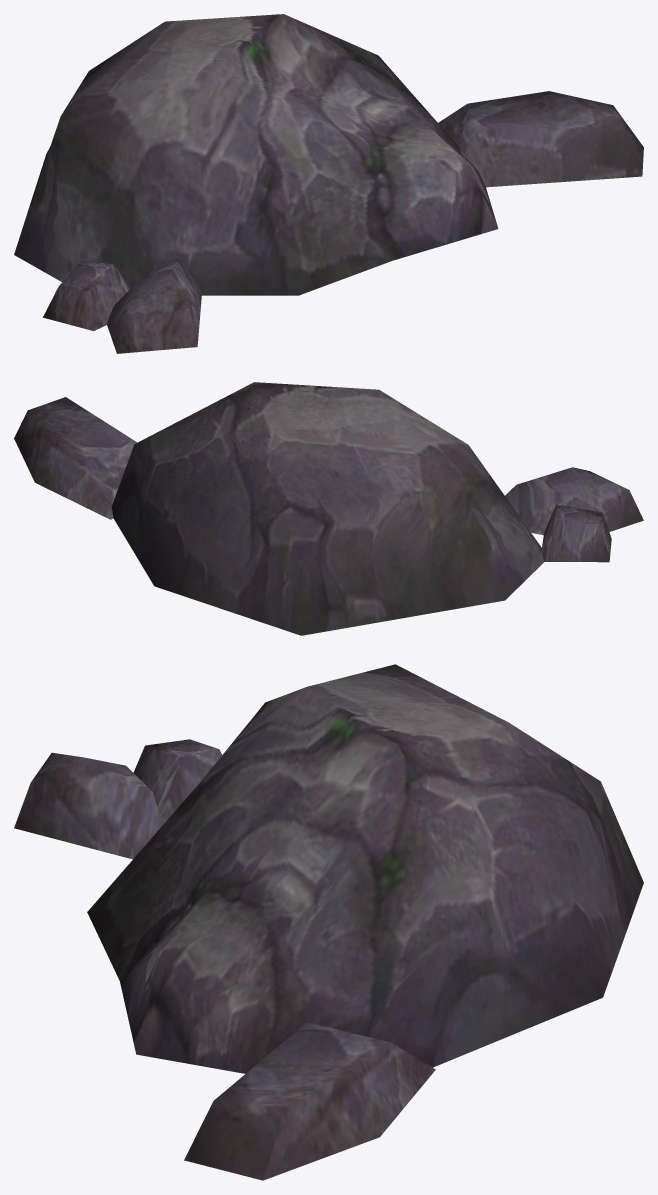
Rendered from yw_huanghunbianjing_shitui03.FBX.
3 renders of one model, top to bottom at view 1: azimuth 30°, elevation 25°; view 2: azimuth 150°, elevation 25°; view 3: azimuth 270°, elevation 25°, orthographic. The views are drawn at different scales.
Visible parts, largest first — view 1: yw_huanghunbianjing_shitui03; view 2: yw_huanghunbianjing_shitui03; view 3: yw_huanghunbianjing_shitui03.
Boxes of the visible parts, bbox=[...] form: yw_huanghunbianjing_shitui03: bbox=[14, 14, 643, 353]; yw_huanghunbianjing_shitui03: bbox=[14, 382, 643, 635]; yw_huanghunbianjing_shitui03: bbox=[14, 664, 643, 1180].
Bounding box in the file's own units: 150 × 39.76 × 97.78.
